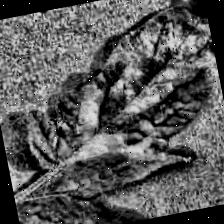leaf mold: (4, 0, 224, 203)
